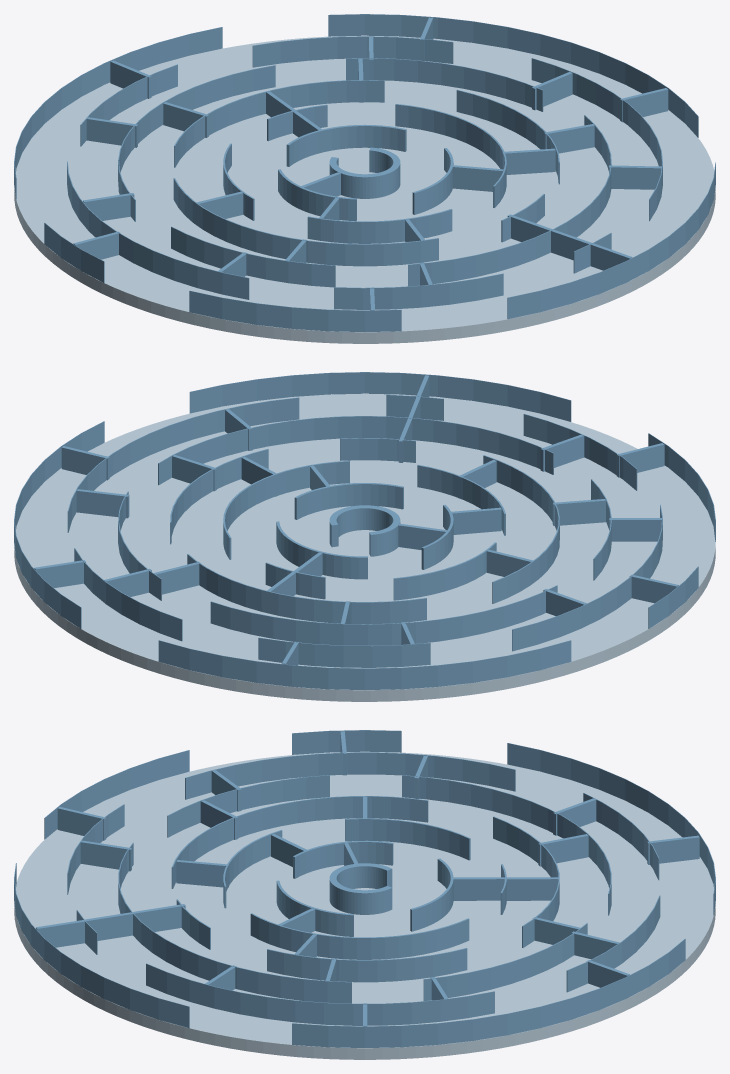
The model's file is maze_3.fbx.
3 renders of one model, top to bottom at view 1: azimuth 30°, elevation 25°; view 2: azimuth 150°, elevation 25°; view 3: azimuth 270°, elevation 25°, orthographic.
Parts seen in each view (by area): view 1: Cylinder.008, Cylinder.007, Cylinder.006, Cylinder.005, Cylinder.004, Cylinder.003, Cylinder.002, Cylinder.001, Cube.005, Cube.010, Cube.002, Cube.014 (+12 smaller); view 2: Cylinder.008, Cylinder.007, Cylinder.005, Cylinder.006, Cylinder.004, Cylinder.003, Cylinder.002, Cylinder.001, Cube.022, Cube.020, Cube.011, Cube.003 (+13 smaller); view 3: Cylinder.008, Cylinder.007, Cylinder.006, Cylinder.005, Cylinder.004, Cylinder.003, Cylinder.002, Cylinder.001, Cube.006, Cube.016, Cube.004, Cube.025 (+14 smaller).
Boxes of the visible parts, box(x1,y1,x2,y2) form: Cylinder.008: box(14, 35, 715, 343); Cylinder.007: box(14, 14, 715, 331); Cylinder.006: box(67, 36, 662, 309); Cylinder.005: box(118, 58, 611, 287); Cylinder.004: box(173, 80, 559, 266); Cylinder.003: box(223, 104, 506, 243); Cylinder.002: box(278, 124, 453, 221); Cylinder.001: box(329, 147, 400, 198); Cube.005: box(502, 148, 555, 174); Cube.010: box(609, 165, 661, 189); Cube.002: box(453, 165, 503, 191); Cube.014: box(86, 117, 137, 147); Cylinder.008: box(14, 393, 715, 701); Cylinder.007: box(14, 372, 715, 689); Cylinder.005: box(118, 416, 611, 645); Cylinder.006: box(67, 394, 662, 667); Cylinder.004: box(170, 438, 559, 624); Cylinder.003: box(223, 460, 505, 600); Cylinder.002: box(276, 483, 453, 579); Cylinder.001: box(329, 505, 400, 556); Cube.022: box(609, 518, 661, 541); Cube.020: box(552, 499, 605, 525); Cube.011: box(76, 489, 129, 518); Cube.003: box(451, 507, 501, 534); Cylinder.008: box(14, 751, 715, 1059); Cylinder.007: box(14, 730, 715, 1047); Cylinder.006: box(67, 752, 660, 1025); Cylinder.005: box(118, 775, 611, 1003); Cylinder.004: box(171, 796, 559, 982); Cylinder.003: box(223, 818, 506, 959); Cylinder.002: box(276, 840, 453, 936); Cylinder.001: box(329, 863, 392, 914); Cube.006: box(176, 860, 229, 887); Cube.016: box(506, 877, 558, 900); Cube.004: box(453, 877, 504, 900); Cube.025: box(647, 835, 699, 864).
Size of the model in its own units: 1188 by 62.51 by 1188.
